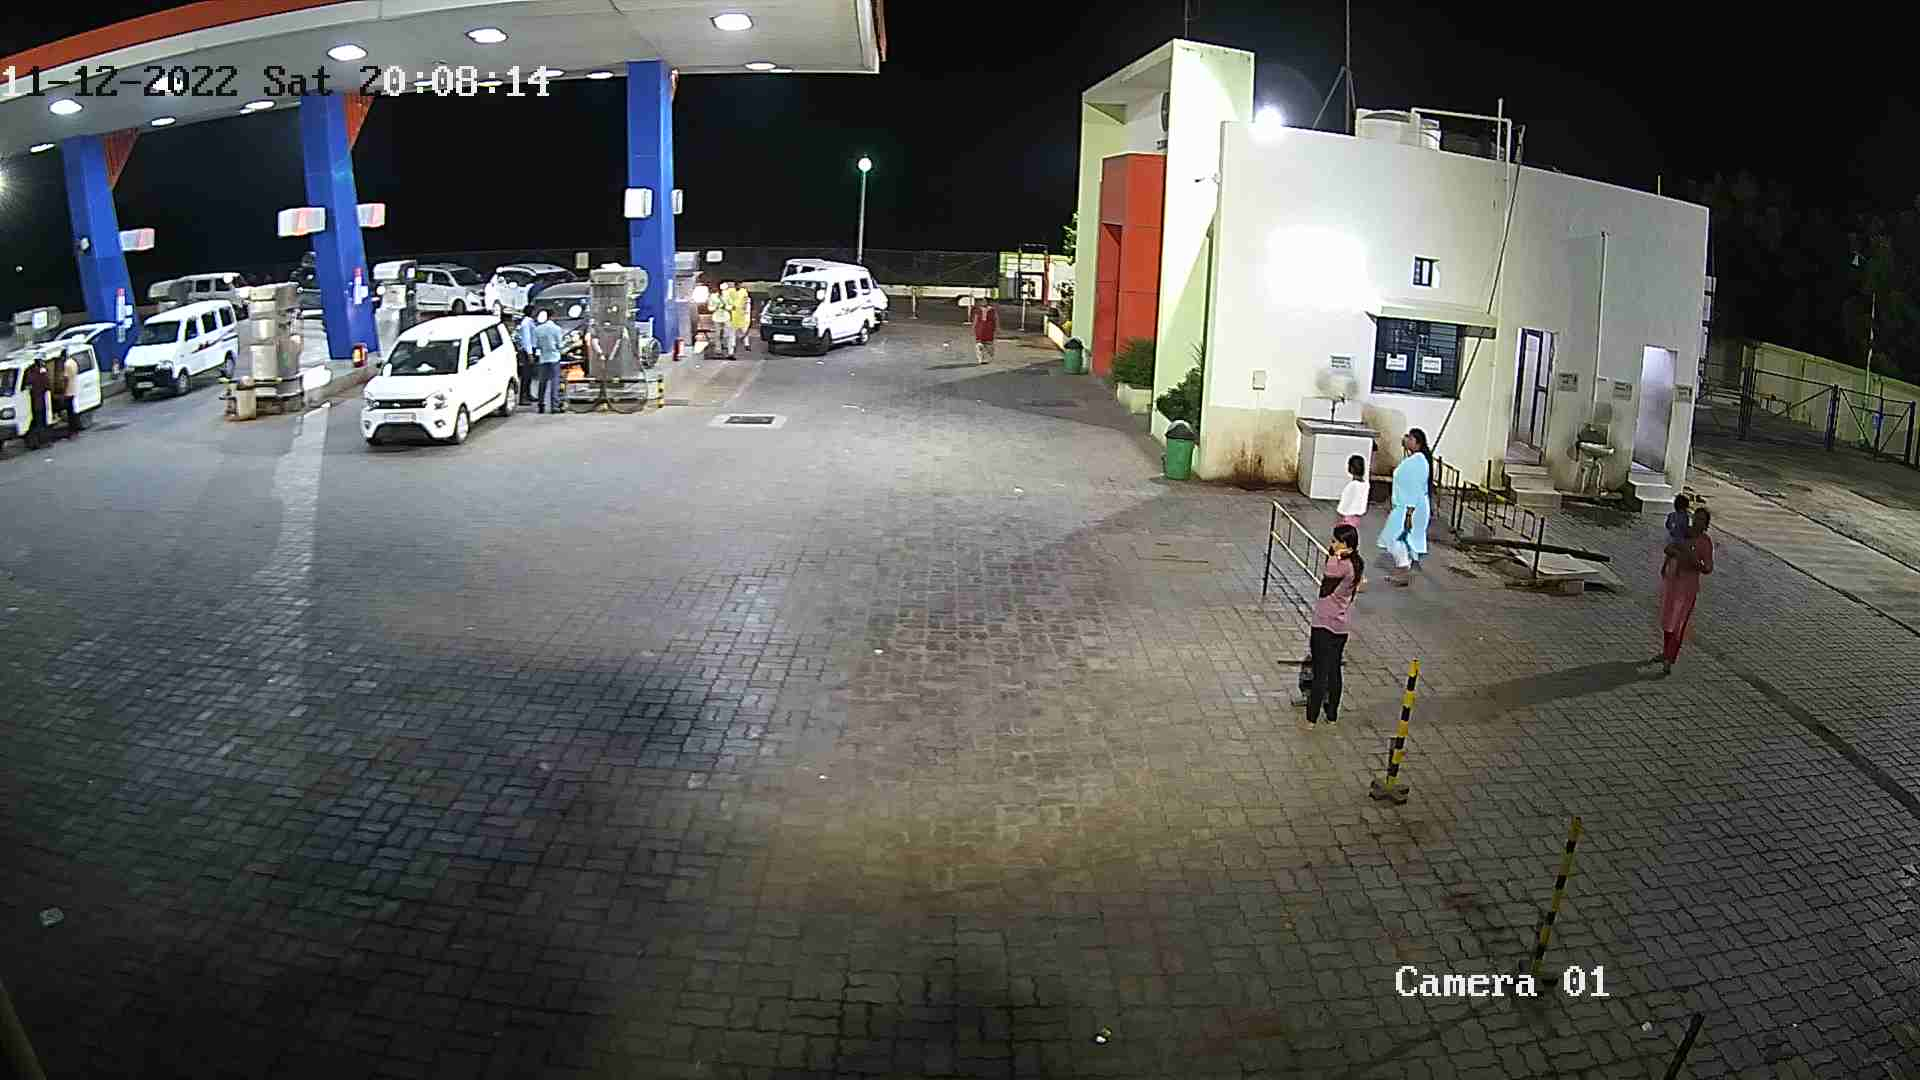Car: (353, 306, 527, 454), (0, 313, 119, 450), (115, 291, 247, 398), (757, 262, 880, 357), (506, 276, 593, 382), (774, 253, 889, 328), (480, 258, 584, 323), (146, 266, 260, 323), (413, 252, 491, 320)
